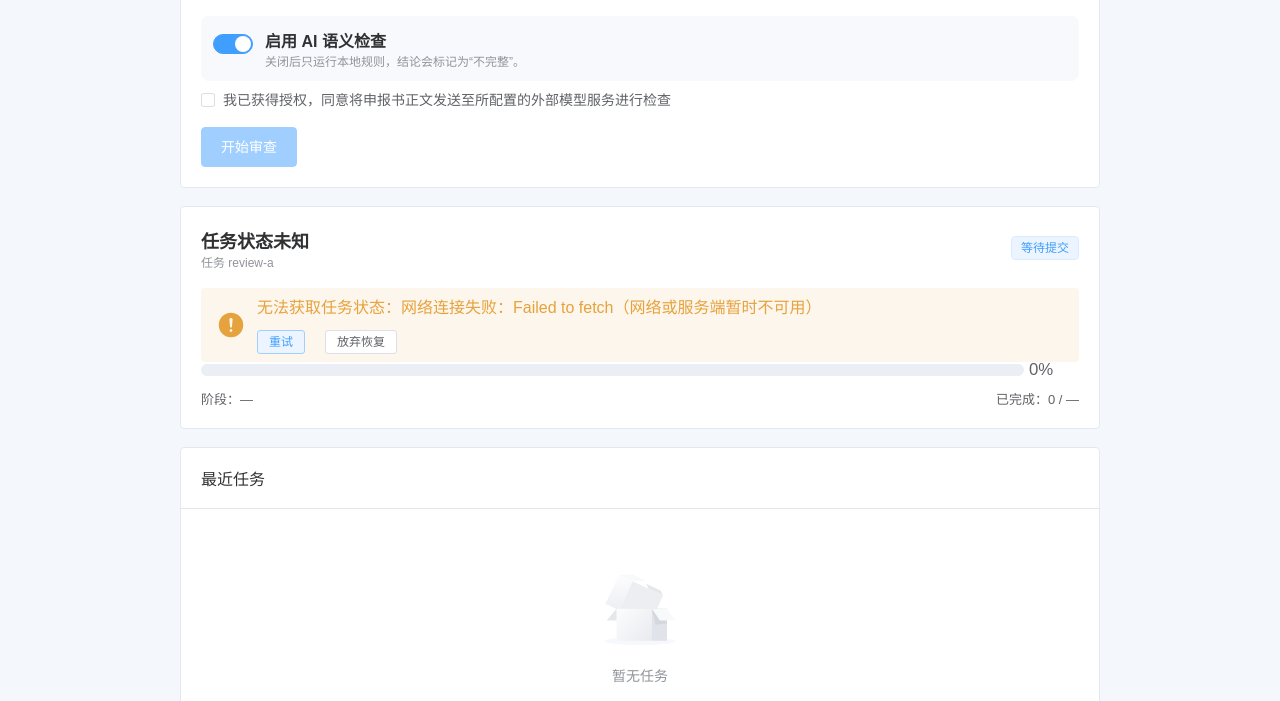
Test: R14-1/3 恢复失败时的键保留与用户隔离 › 恢复时断网：保留该用户的恢复键、给出可重试提示，点击“重试”会真正重新请求
This screenshot has width=1280, height=701.
(page scrolled)
Click the button "重试" at point(281, 342), box [257,330,305,354]
(page scrolled)
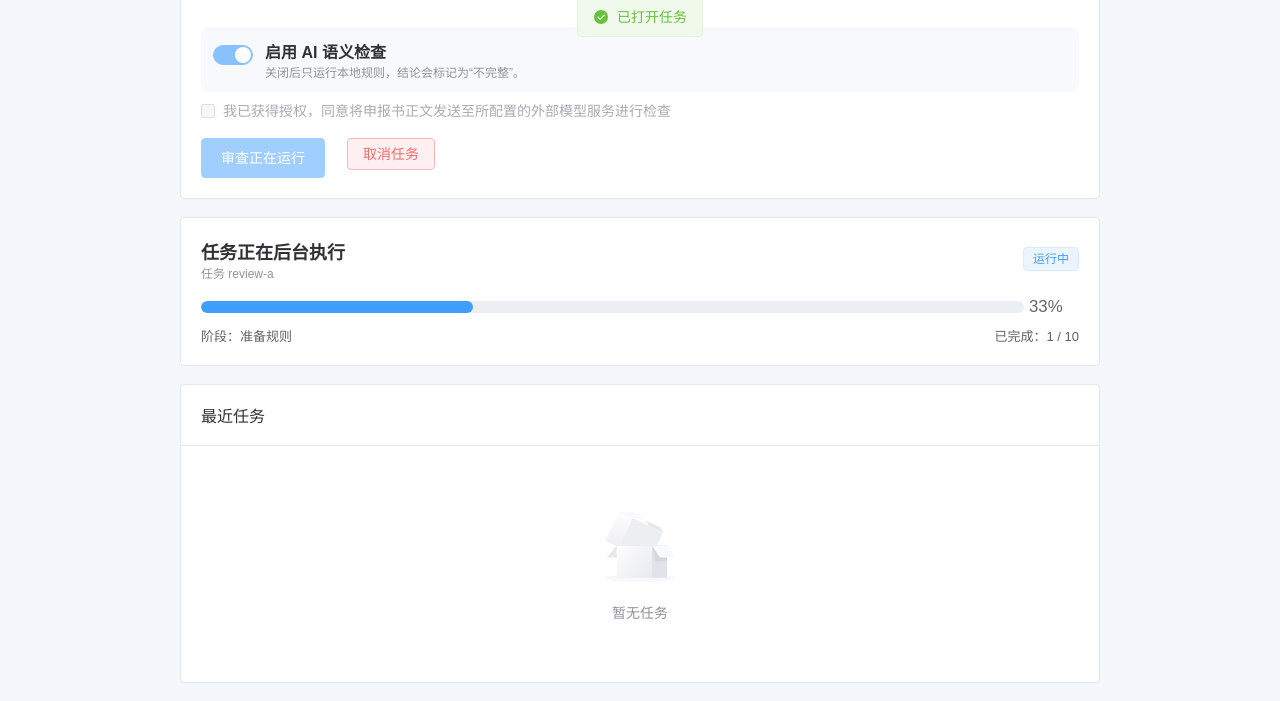
Expected: the text "无法获取任务状态" is gone
Expected: the text "运行中" is shown, [1033,253,1069,265]
Expected: the text "33" is shown, [1029,297,1063,316]
